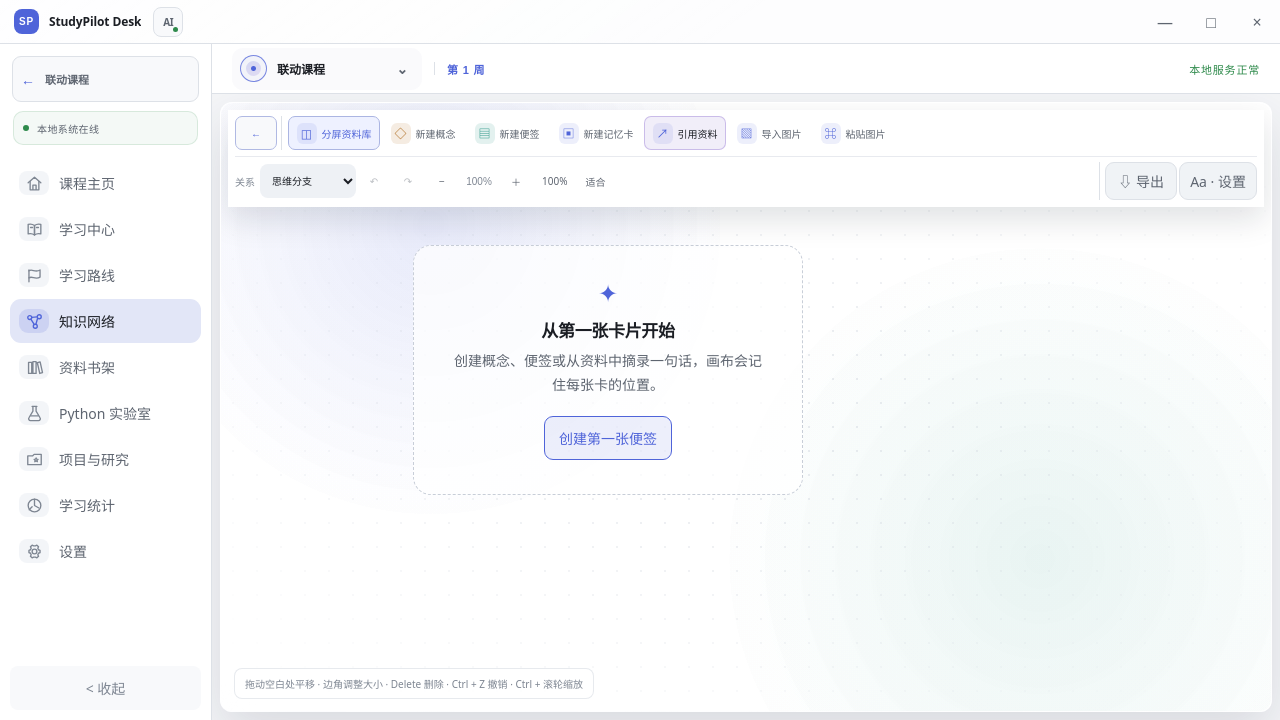
Test: opens the document library beside a knowledge notebook
The width and height of the screenshot is (1280, 720).
Step 1. Click the button with aria-label "分屏打开资料库" → (334, 133), box [288,116,380,150]
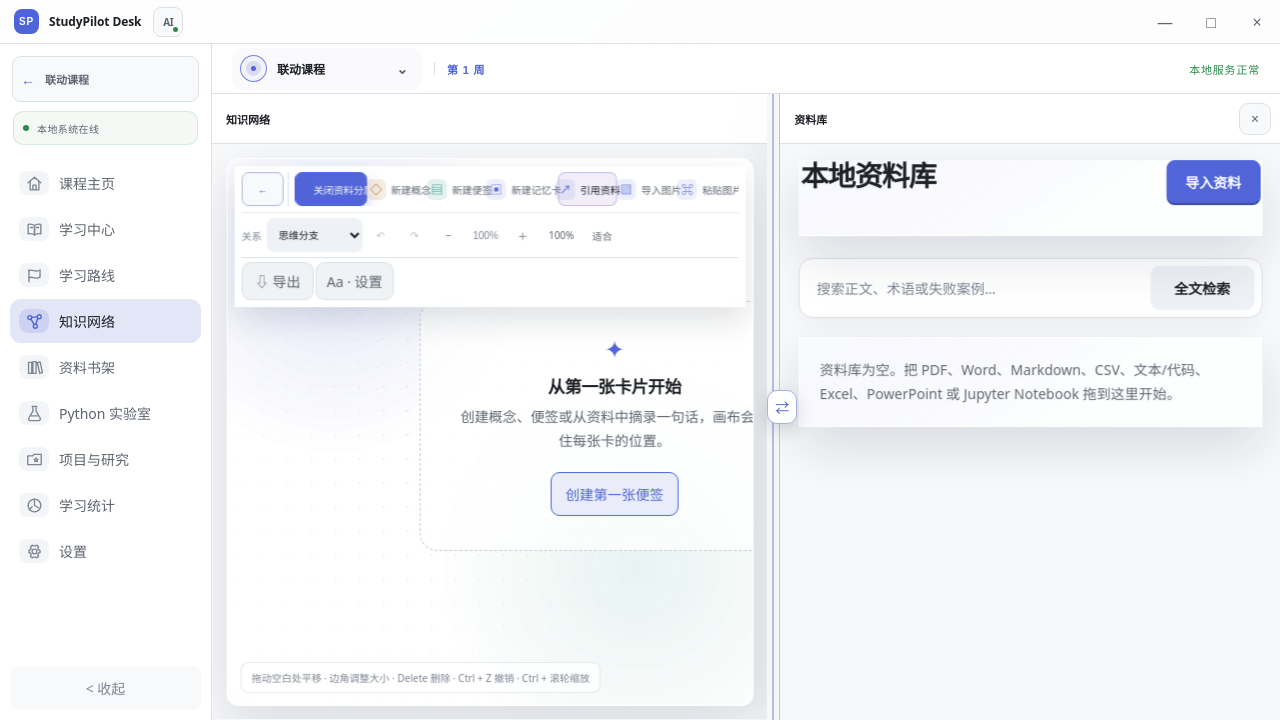
Expected: the element named "联动分屏：资料库" is shown, [779,94,1279,719]
Expected: the heading "本地资料库" is shown, [800,160,936,190]
